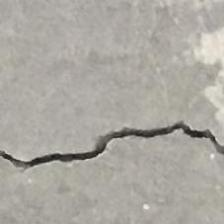Crack: (0, 79, 224, 194)
